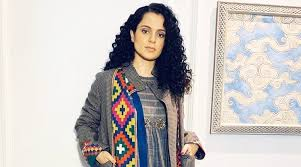indian_female: (125, 11, 182, 79)
